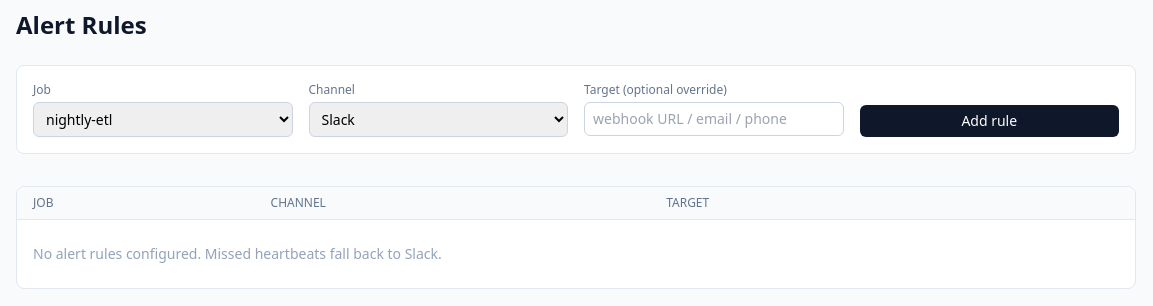
Test case: AlertRulesPage › submits a new rule with the selected job, channel, and target, then refreshes
expect the text "No alert rules configured. Missed heartbeats fall back to Slack." is shown: met, box [17,220,1135,288]
Type "#alerts" into the field with placeholder "webhook URL / email / phone".
click(714, 119); type("#alerts")  # box [584,102,844,136]
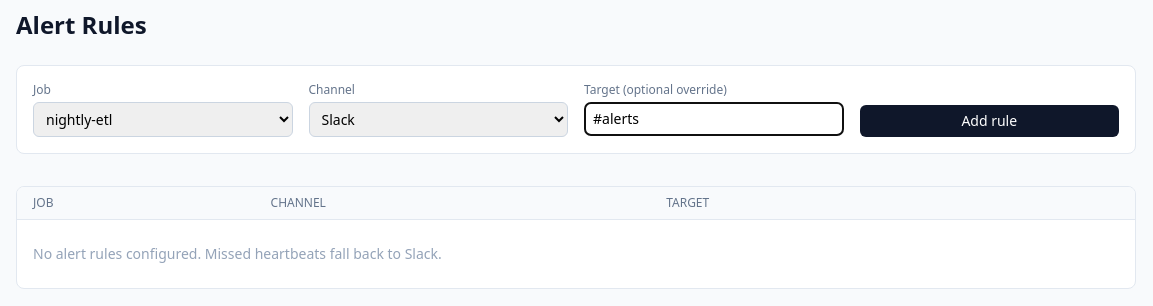
Click the button "Add rule".
click(989, 121)  # box [860,105,1119,137]
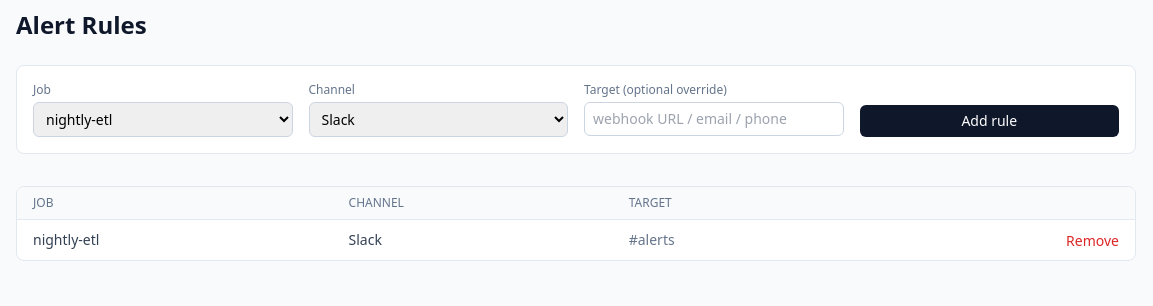
expect the text "#alerts" is shown: met, box [613,220,863,260]
